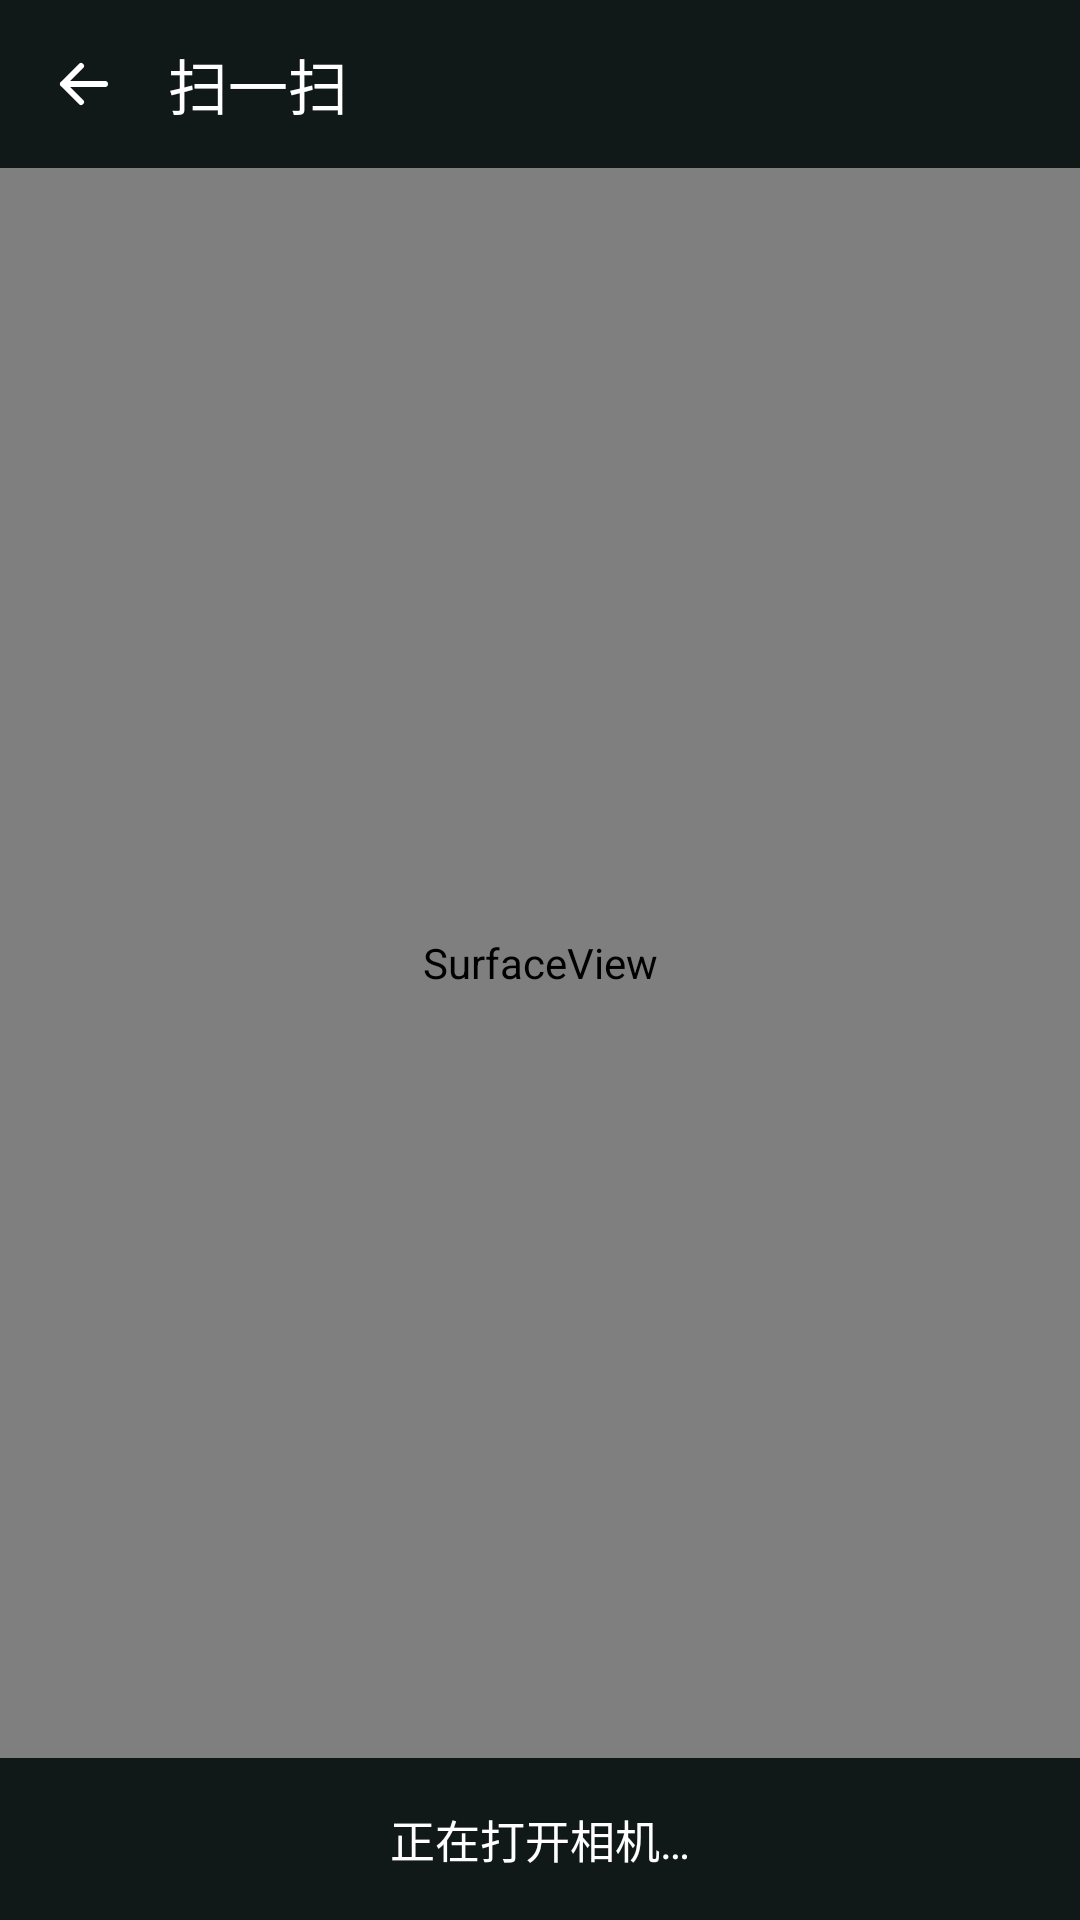

Named icons in this screenshot (1080px x 1920px) and their bounding boxes, (x1, y1, x2, y2):
后退: (60, 63, 108, 105)
